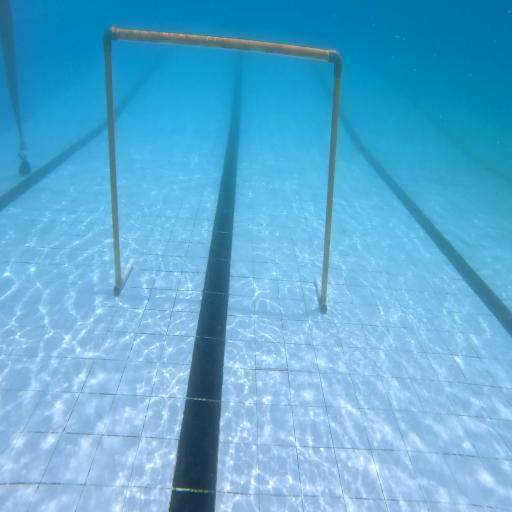gate: (104, 26, 342, 315)
